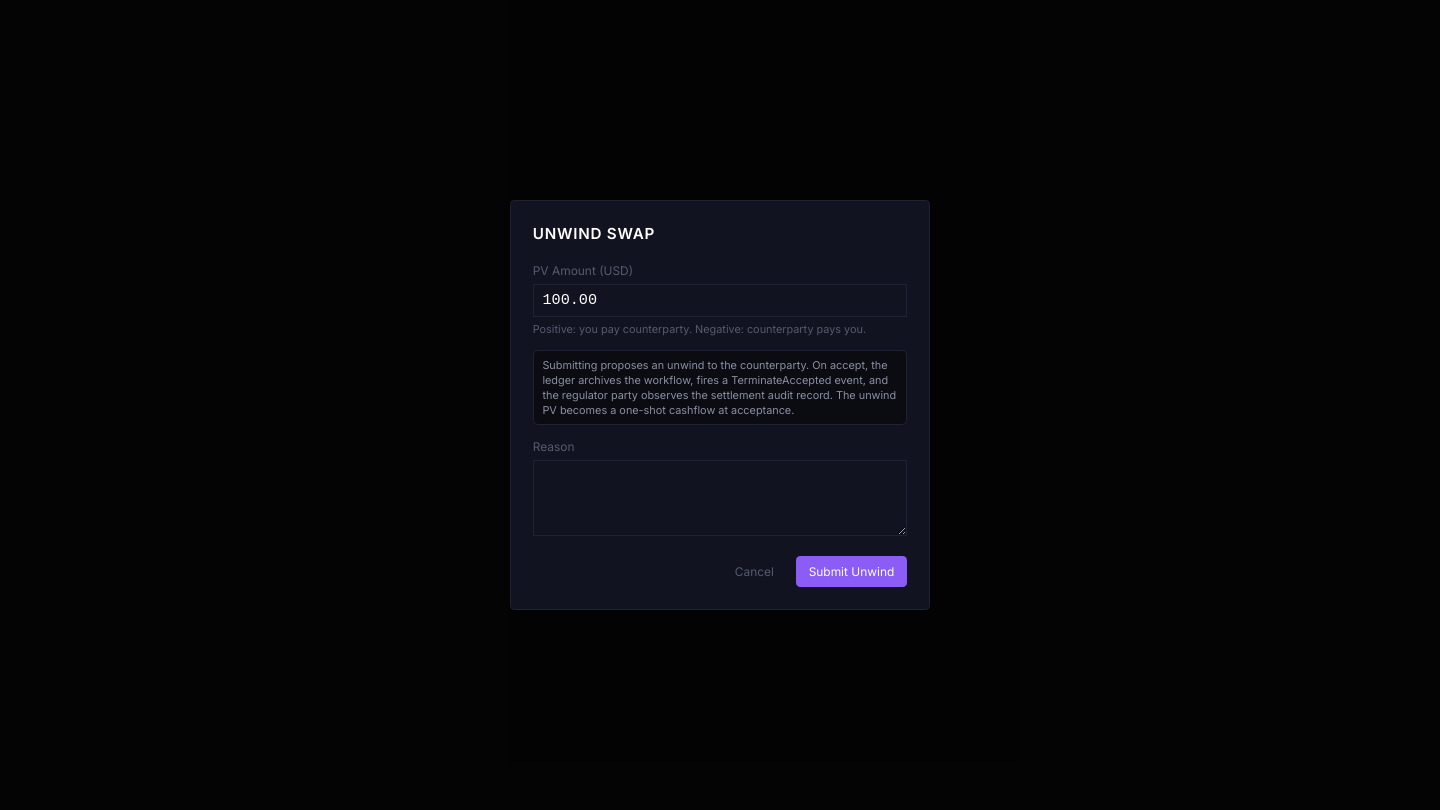
Scenario: UnwindModal › shows validation error for empty reason
Click the button "Submit Unwind" at (851, 572), box [796,556,907,587]
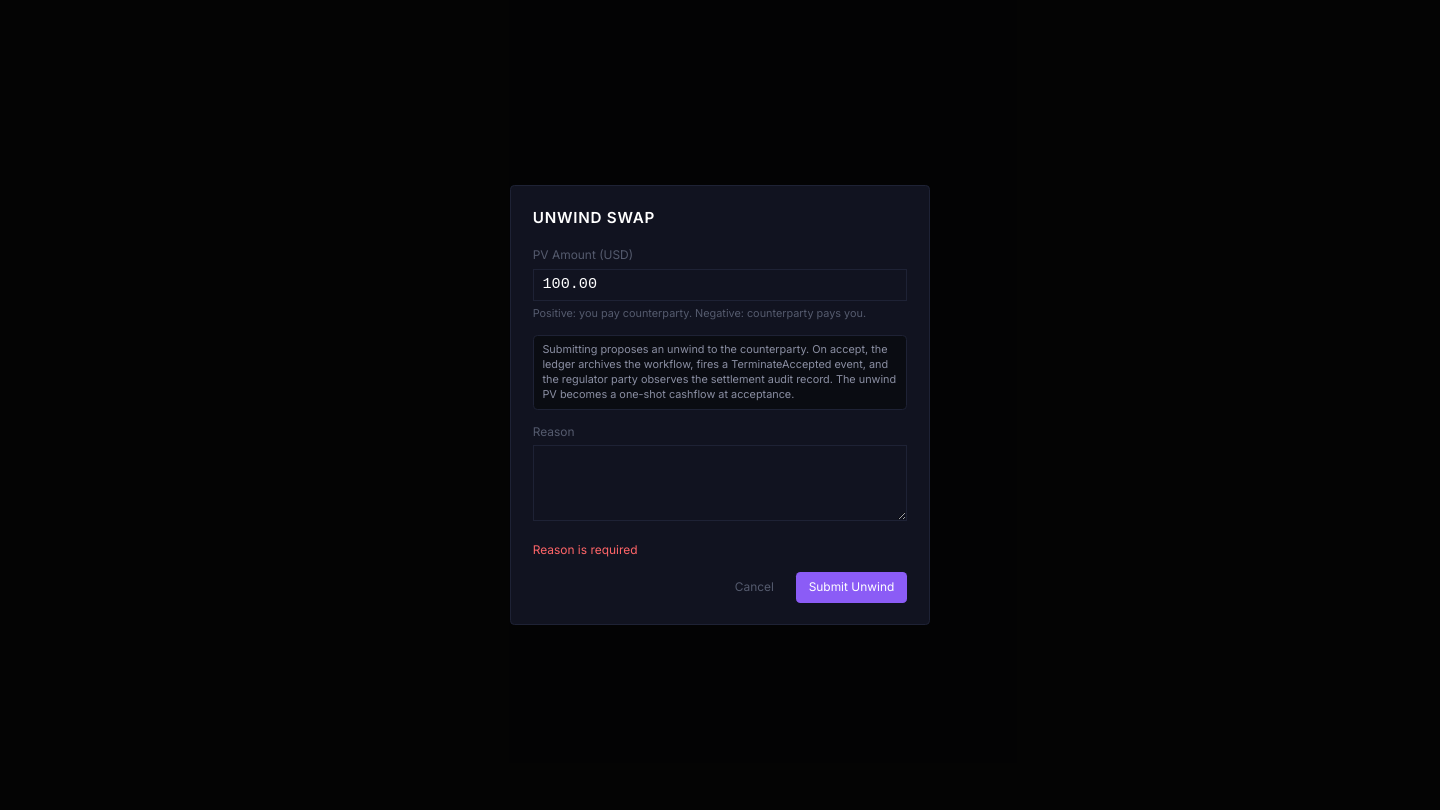
Check: the text "Reason is required" is shown, box [533,542,638,557]
